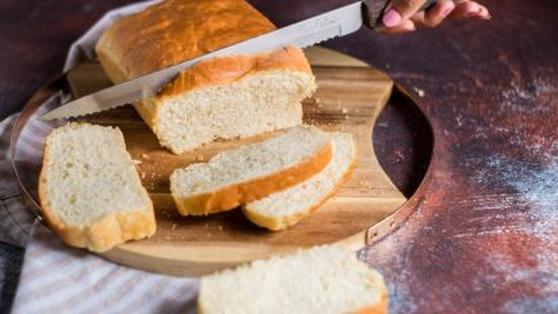white_bread: (95, 2, 324, 138)
